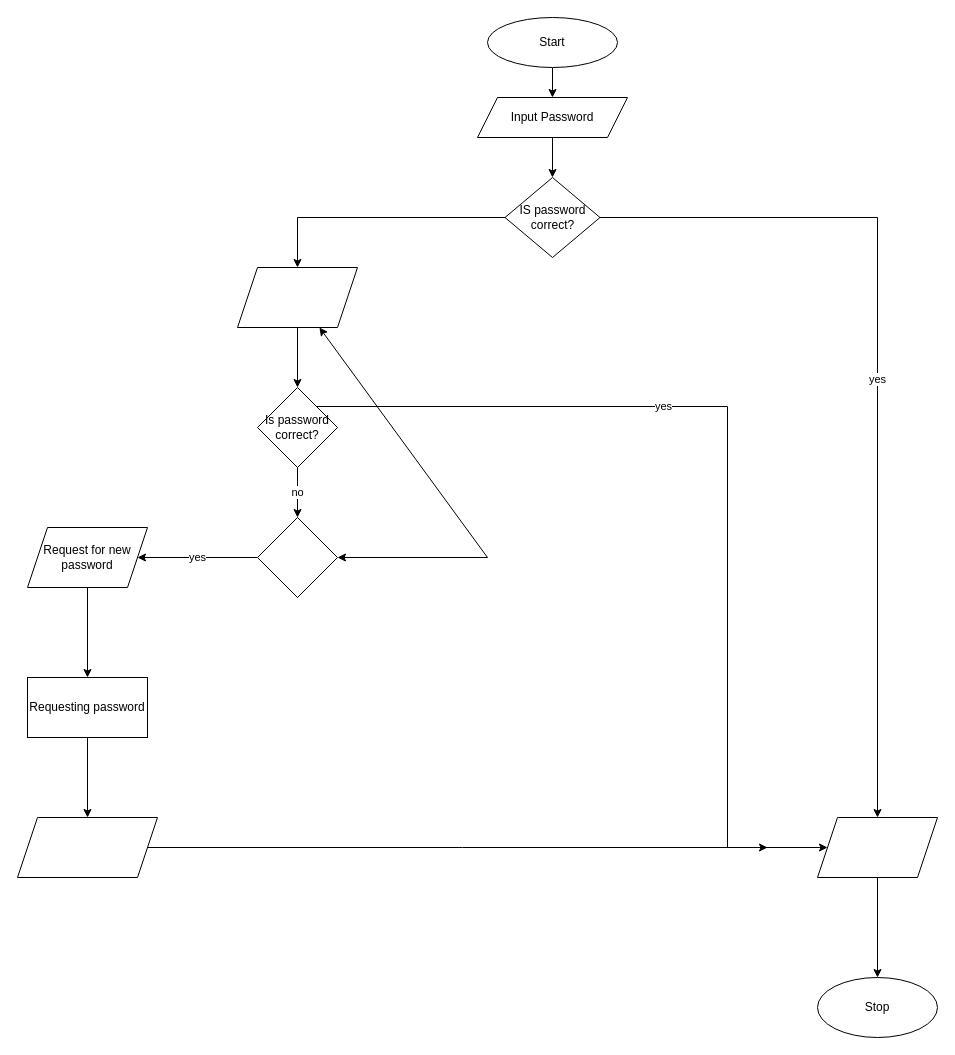
This 955x1055 diagram has some shape labels left out. Here are the shapes that lost their labels. From the top down, the centre of each, then its label:
At point 297,297: "Rewrite Password".
At point 297,557: "Forgotten password?".
At point 87,847: "Enter new password".
At point 877,847: "You're in".
